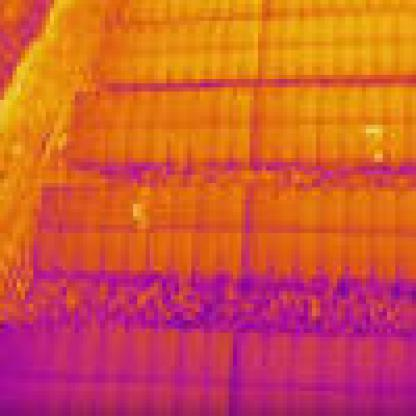Defects: (358, 121, 392, 162), (124, 199, 158, 233)
